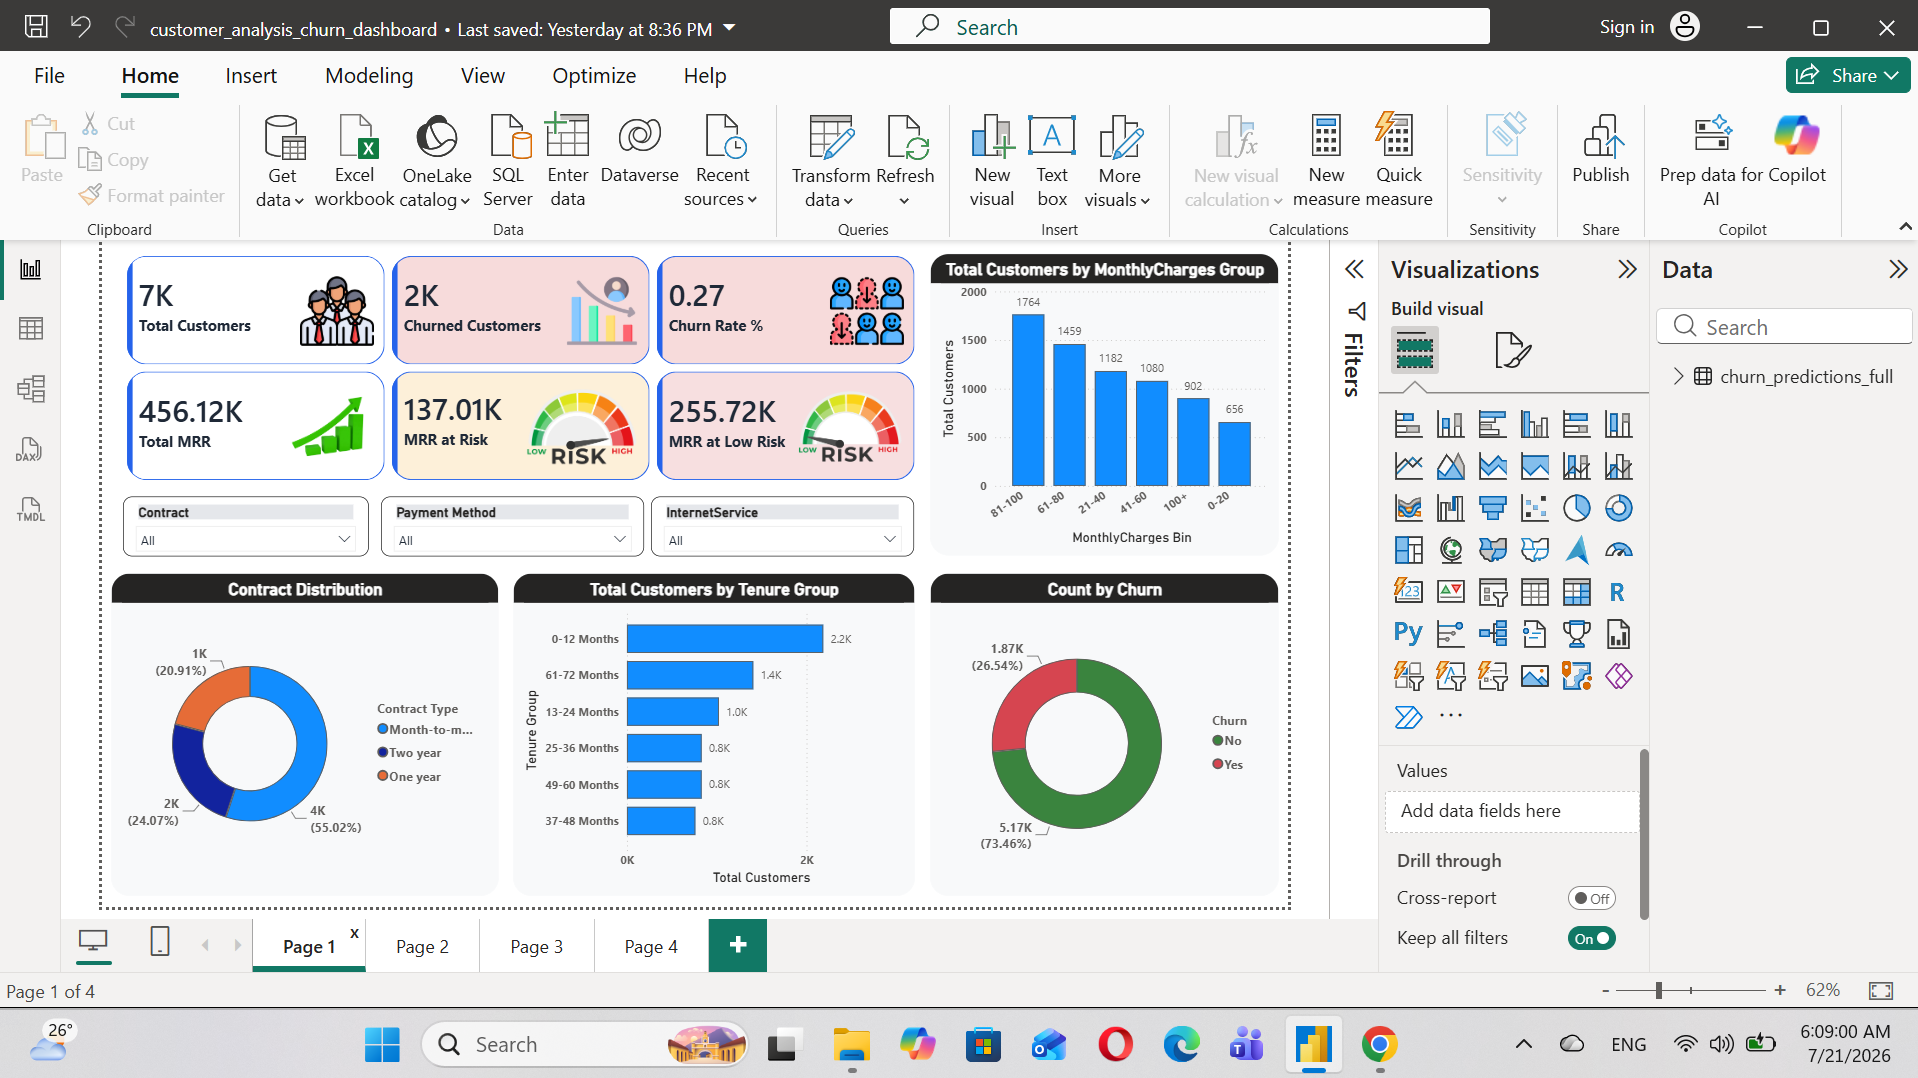

This screenshot's page, from the dashboard's own definition file:
{"tool":"powerbi","page":{"name":"Page 1","canvas":[1280,720],"ordinal":0},"visuals":[{"type":"cardVisual","fields":{"Data":["churn_predictions_full.Total Customers","churn_predictions_full.Churned Customers","churn_predictions_full.Churn Rate %","churn_predictions_full.Total MRR","churn_predictions_full.MRR at Risk","churn_predictions_full.MRR at Low Risk"]},"box":[9.5,0,884.7,276.6],"z":0},{"type":"donutChart","title":"Contract Distribution","fields":{"Category":["churn_predictions_full.Contract"],"Y":["churn_predictions_full.Total Customers"]},"box":[9.5,359.9,418.7,348.6],"z":1000},{"type":"clusteredBarChart","fields":{"Y":["churn_predictions_full.Total Customers"],"Category":["churn_predictions_full.Tenure Group"]},"box":[443.3,359.9,433.8,348.6],"z":2000},{"type":"donutChart","title":"Count by Churn","fields":{"Category":["churn_predictions_full.Churn"],"Y":["CountNonNull(churn_predictions_full.Churn)"]},"box":[894.2,359.9,377,348.6],"z":3000},{"type":"columnChart","title":"Total Customers by MonthlyCharges Group","fields":{"Y":["churn_predictions_full.Total Customers"],"Category":["churn_predictions_full.MonthlyCharges Bin"]},"box":[894.2,15.2,377,325.8],"z":4000},{"type":"slicer","fields":{"Values":["churn_predictions_full.Contract"]},"box":[22.7,276.6,265.2,64.4],"z":5000},{"type":"slicer","fields":{"Values":["churn_predictions_full.PaymentMethod"]},"box":[301.2,276.6,284.2,64.4],"z":6000},{"type":"slicer","fields":{"Values":["churn_predictions_full.InternetService"]},"box":[593,276.6,284.2,64.4],"z":7000}]}

Visuals, with their boxes on the page's 1280x720 design canvas (x1, y1, x2, y2). These are canvas units, not pixel positions in the 1918x1078 screenshot, which may show the page scaled, cropped or inside an application window:
cardVisual - churn_predictions_full.Total Customers x churn_predictions_full.Churned Customers: locate(10, 0, 894, 277)
"Contract Distribution" donutChart: locate(10, 360, 428, 708)
clusteredBarChart - churn_predictions_full.Total Customers x churn_predictions_full.Tenure Group: locate(443, 360, 877, 708)
"Count by Churn" donutChart: locate(894, 360, 1271, 708)
"Total Customers by MonthlyCharges Group" columnChart: locate(894, 15, 1271, 341)
slicer - churn_predictions_full.Contract: locate(23, 277, 288, 341)
slicer - churn_predictions_full.PaymentMethod: locate(301, 277, 585, 341)
slicer - churn_predictions_full.InternetService: locate(593, 277, 877, 341)
